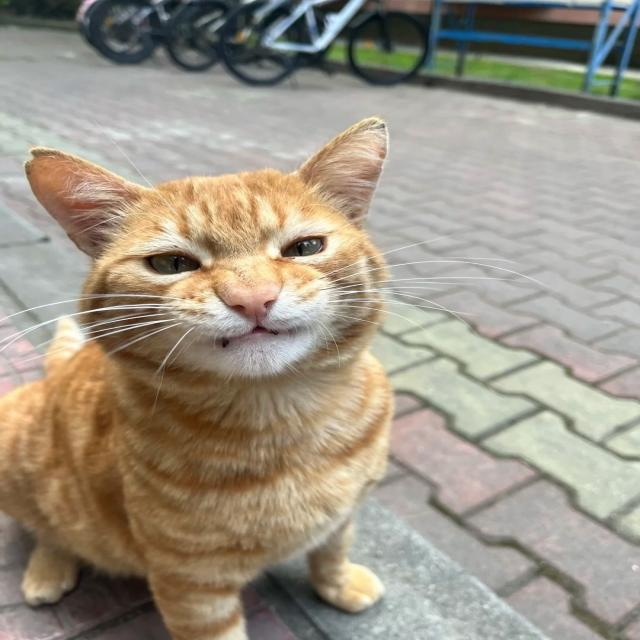sarman: (0, 118, 392, 640)
